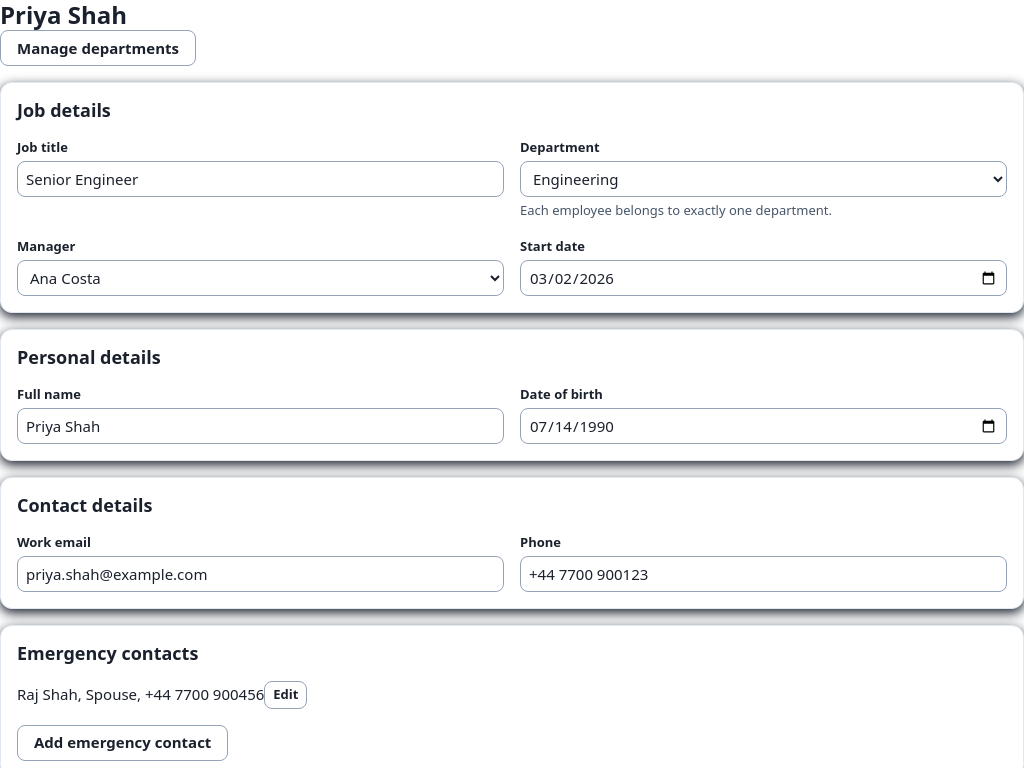
Test case: EmployeeRecordPage: existing record › edits an existing emergency contact through its Edit button (AC4)
This screenshot has width=1024, height=768.
Click the button with aria-label "Edit emergency contact Raj Shah" at (286,694), box [264,680,307,708]
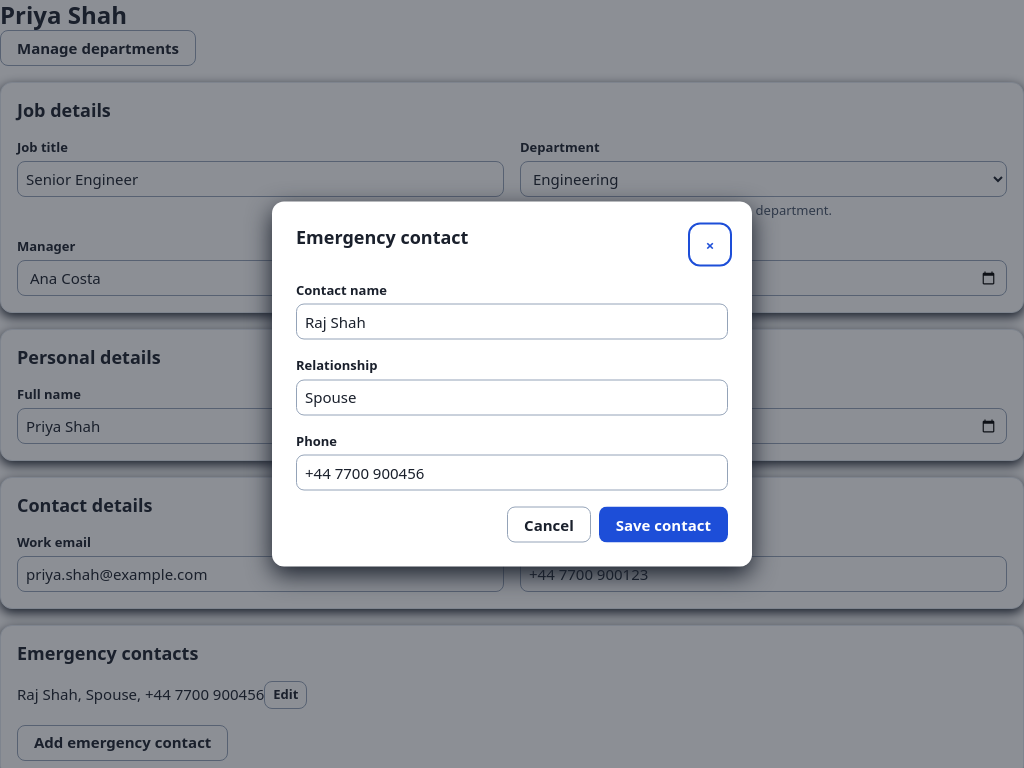
Replace the text in the field labelled "Phone" with "+44 7700 900999" at (512,472), box [296,454,728,490]
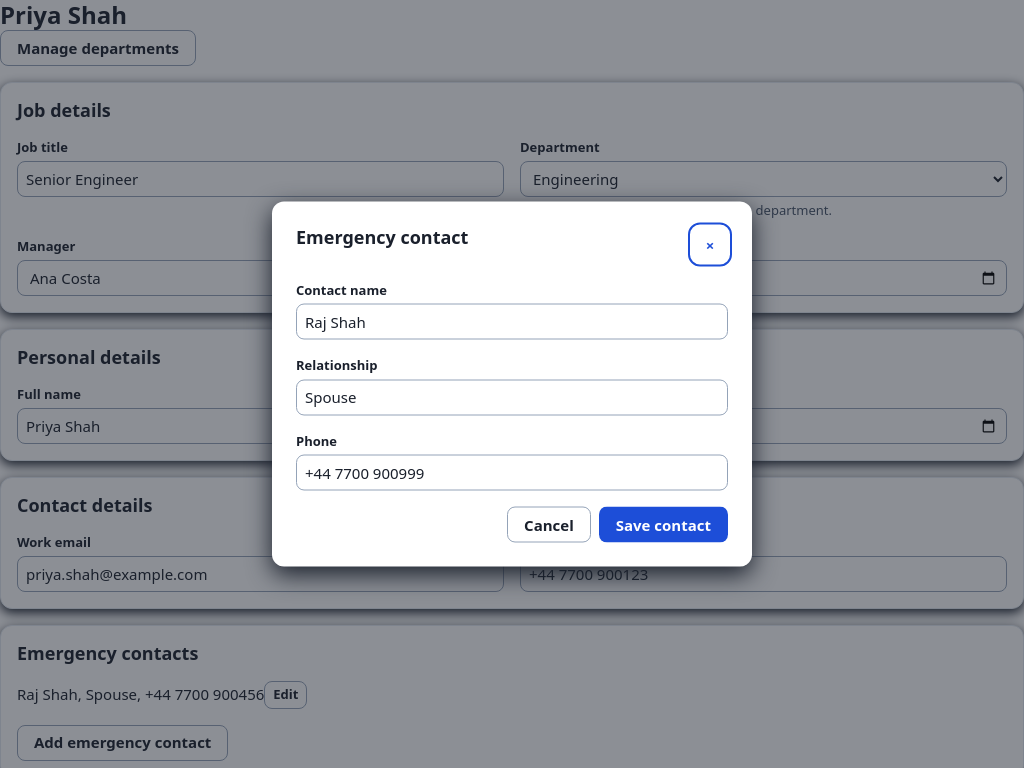
Click the button "Save contact" at (663,524), box [599,506,728,542]
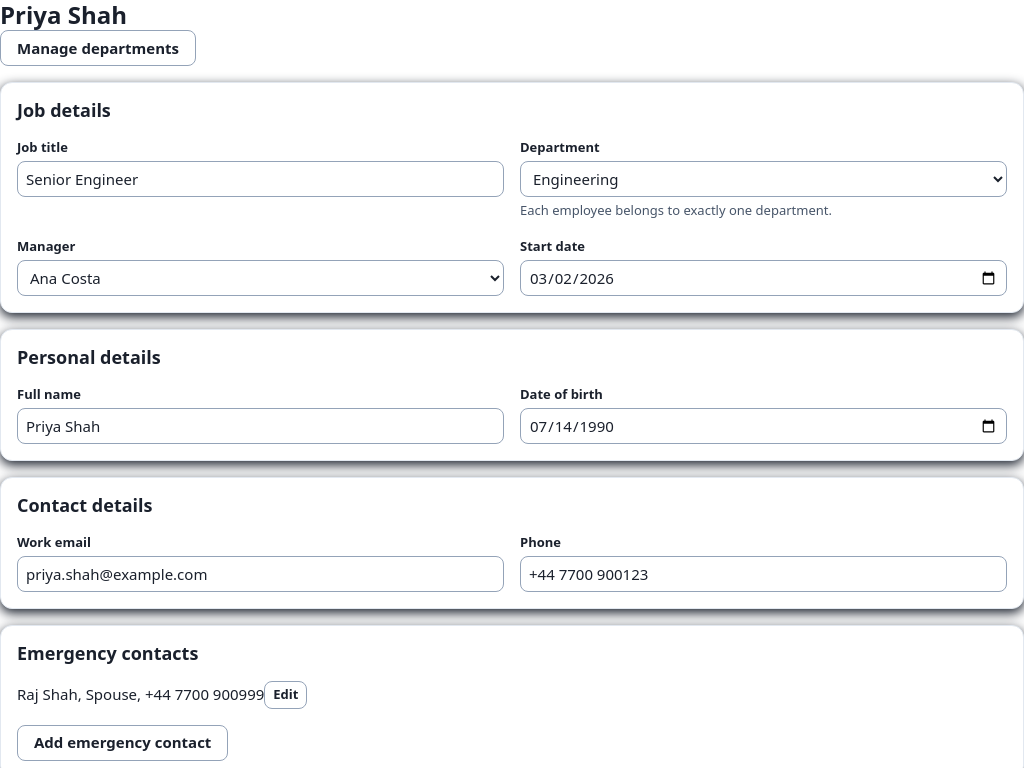
Expected: the text "Raj Shah, Spouse, +44 7700 900999" is shown, [17,683,264,703]
